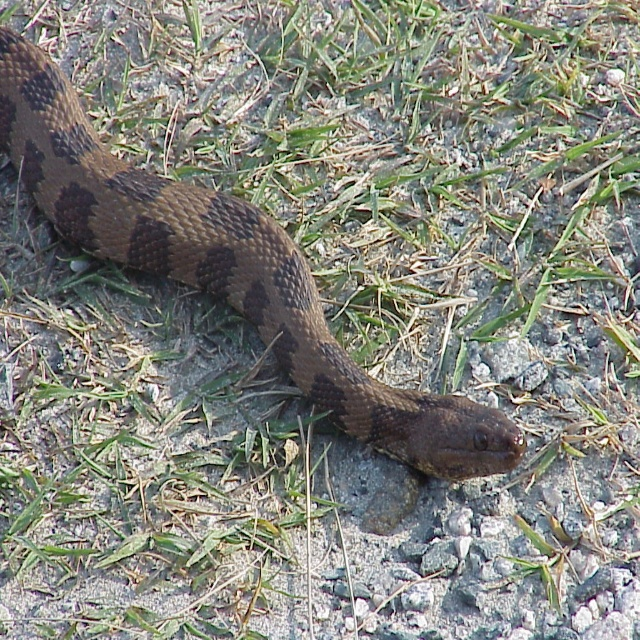Snake: (0, 30, 528, 480)
